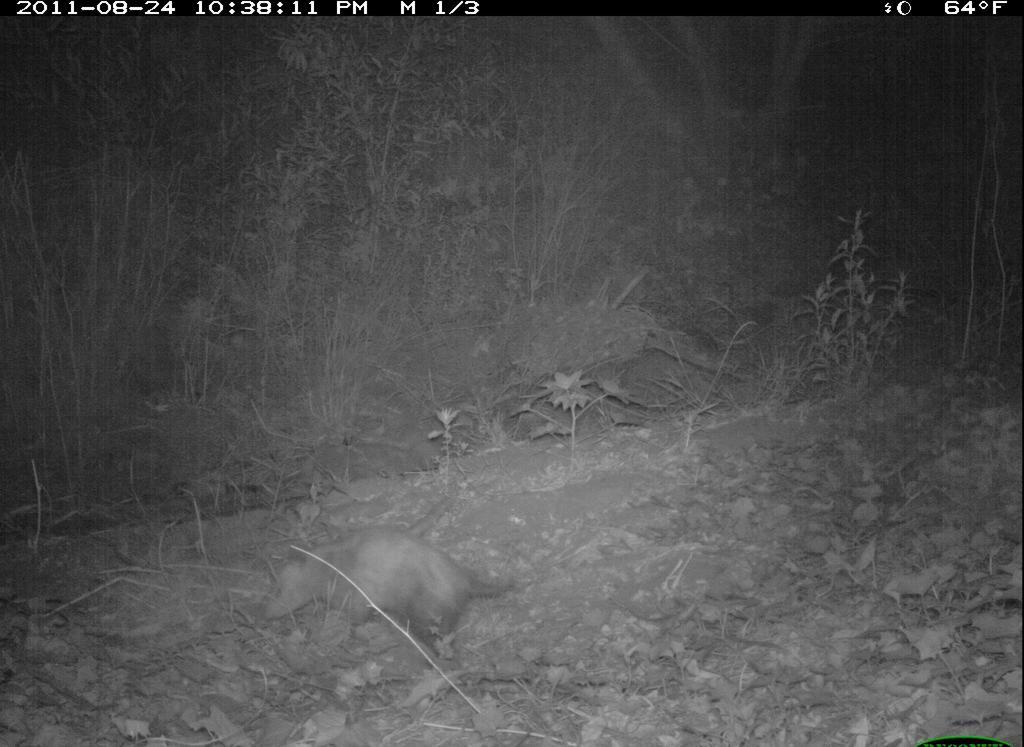opossum: (260, 509, 523, 664)
